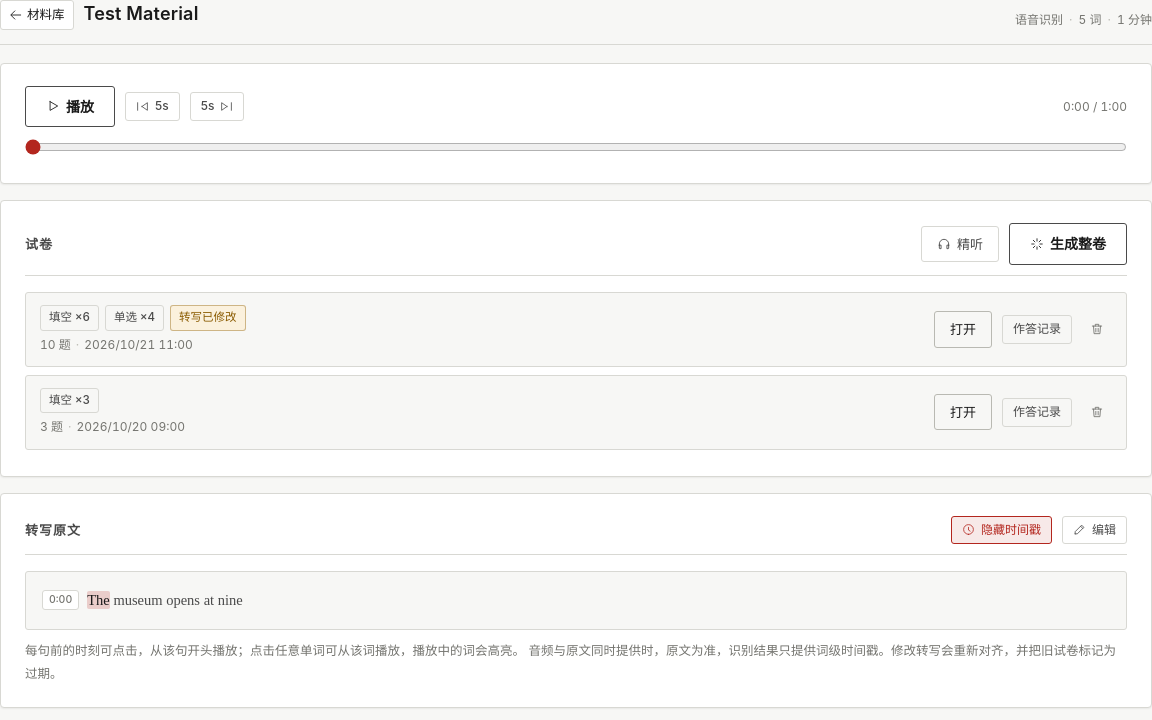
it: MaterialView papers list › expands a paper, lists its attempts and shows per-item correctness
Click the button with class "attempts" in the row of "2026/10/20 09:00" at (1037, 412), box [1002,398,1072,427]
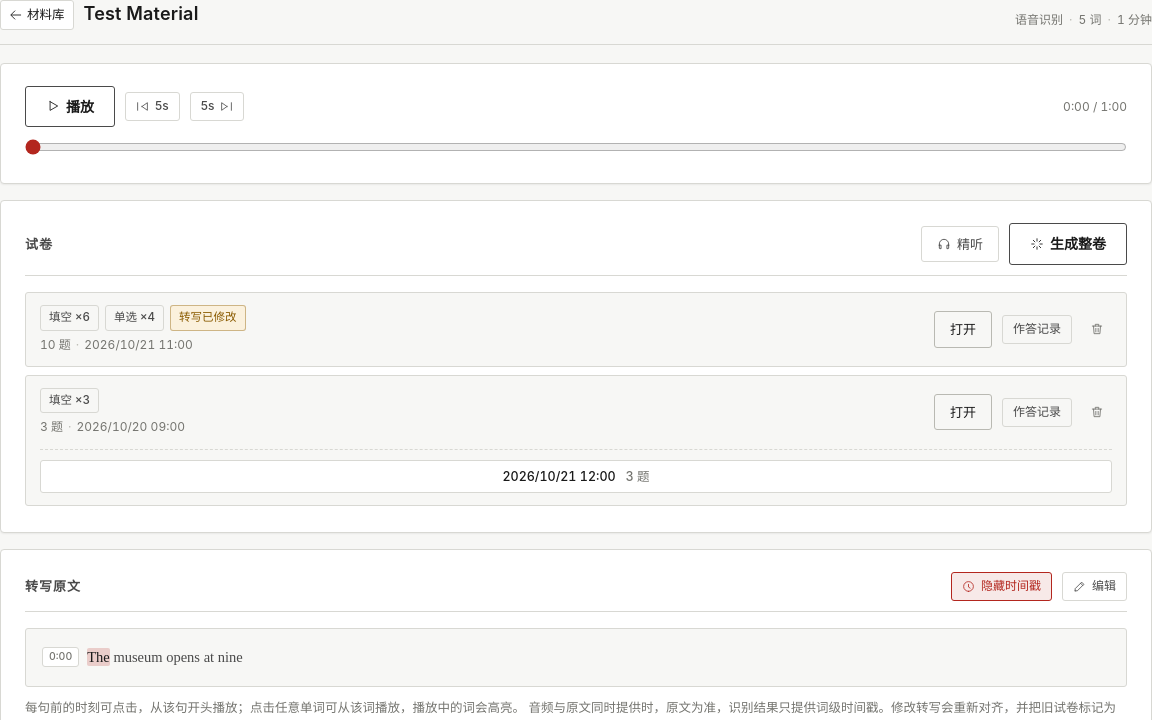
Expected: the text "3 题" is shown, [40,417,63,437]
Click the button with class "attempt-row" at (576, 476), box [40,460,1112,493]
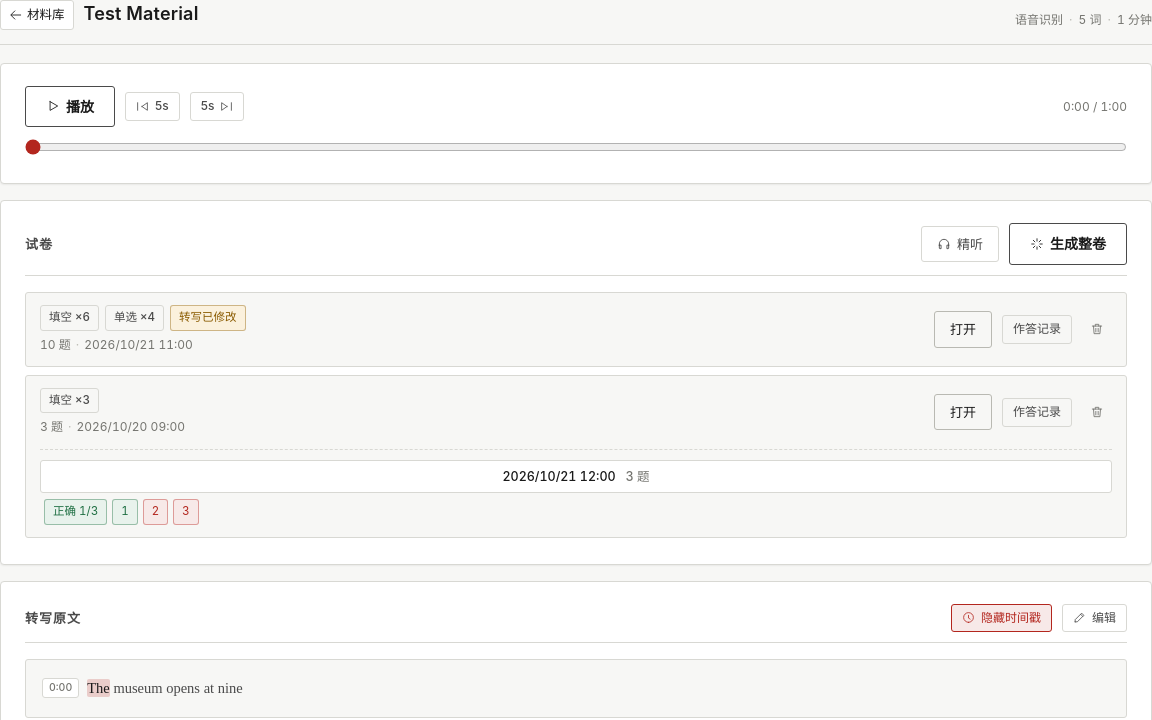
Expected: the text "正确 1/3" is shown, [44,499,107,524]
Expected: the number of elements with class "item-chip" is 3, [112,499,138,524]; [143,499,168,524]; [173,499,199,524]
